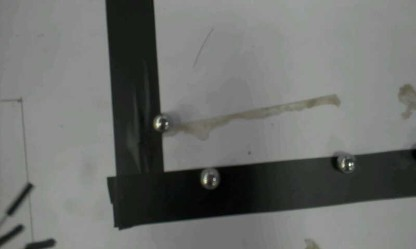ironball: (335, 152, 356, 174), (199, 167, 219, 190), (152, 113, 170, 133)
